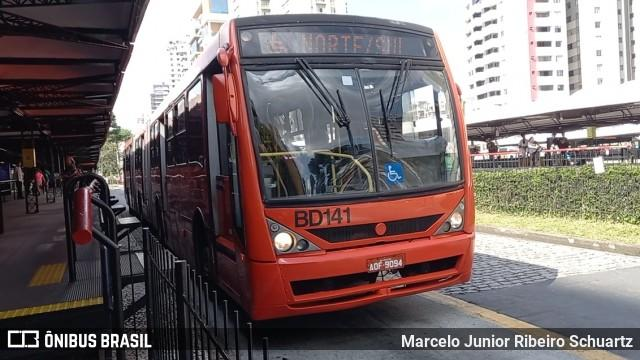NORTE SUL: (294, 30, 408, 59)
